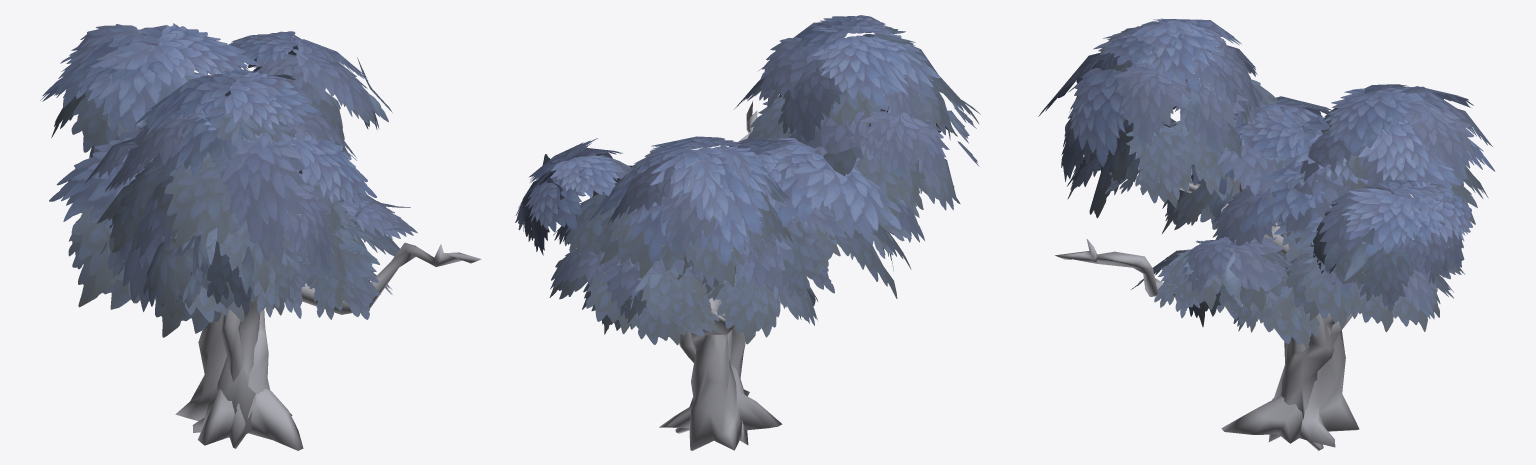
The model's file is tree.fbx.
3 renders of one model, left to right at view 1: azimuth 30°, elevation 25°; view 2: azimuth 150°, elevation 25°; view 3: azimuth 270°, elevation 25°, orthographic. The views are drawn at different scales.
Visible parts, largest first — view 1: tree_04, tree_03, tree_02, tree_01; view 2: tree_04, tree_02, tree_03, tree_01; view 3: tree_04, tree_02, tree_03, tree_01.
Boxes of the visible parts, box(x1,y1,x2,y2) form: tree_04: box(40, 23, 481, 450); tree_03: box(49, 126, 356, 433); tree_02: box(192, 193, 417, 448); tree_01: box(221, 136, 377, 437); tree_04: box(515, 15, 980, 450); tree_02: box(549, 154, 847, 444); tree_03: box(602, 137, 924, 430); tree_01: box(699, 271, 745, 379); tree_04: box(1038, 18, 1495, 447); tree_02: box(1131, 117, 1465, 450); tree_03: box(1162, 96, 1453, 398); tree_01: box(1211, 168, 1325, 363).
Size of the model in its own units: 494 by 499 by 592.
